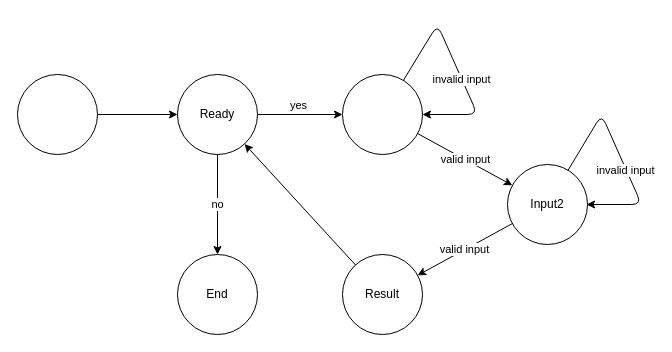
This 672x352 diagram has some shape labels left out. Each missing label, with the centre of its shape:
"Input1" belongs at point 382,114.
"Start" belongs at point 57,114.
